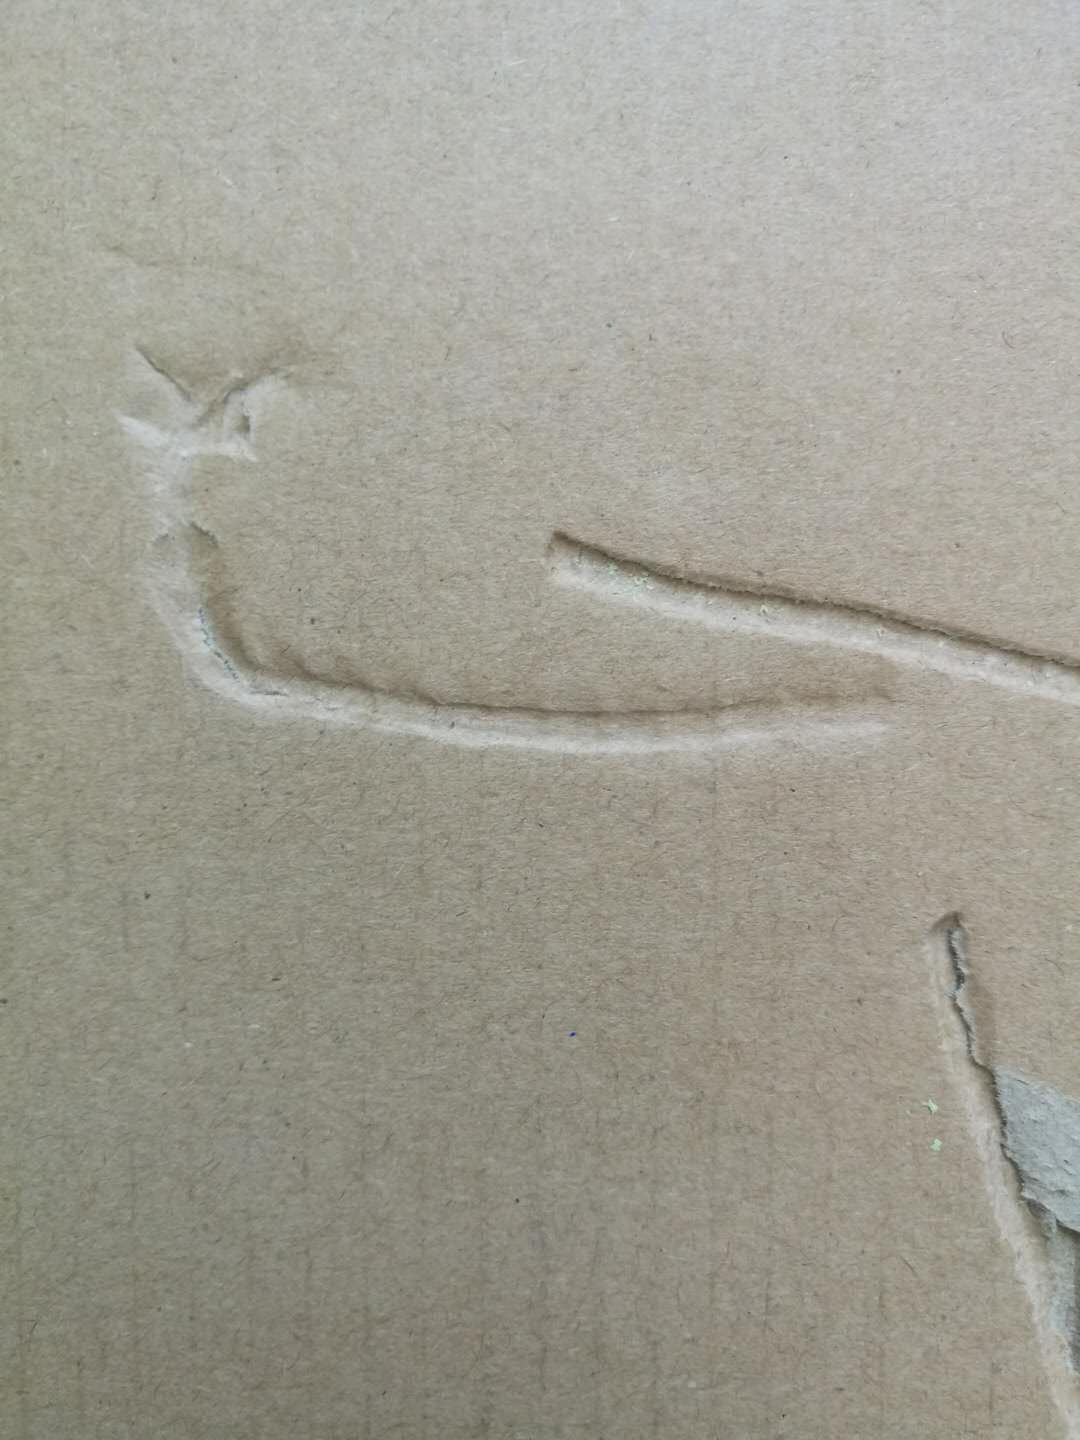defect: (71, 298, 933, 804), (505, 488, 1080, 749), (892, 873, 1079, 1440)
